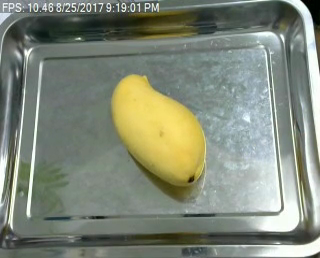Mango: (110, 71, 210, 186)
